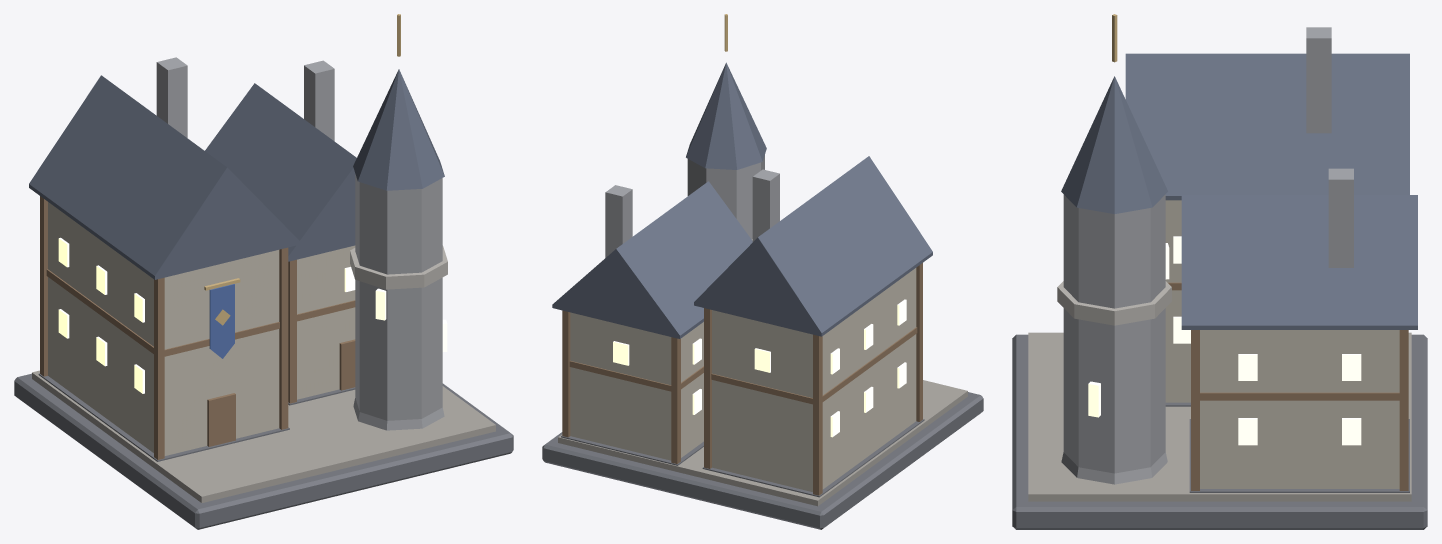
Rendered from habitat.glb.
3 renders of one model, left to right at view 1: azimuth 30°, elevation 25°; view 2: azimuth 150°, elevation 25°; view 3: azimuth 270°, elevation 25°, orthographic. The views are drawn at different scales.
Parts seen in each view (by area): view 1: habitat; view 2: habitat; view 3: habitat.
Part boxes in pixels (x1,y1,x2,y2): habitat: [14, 14, 513, 529]; habitat: [542, 14, 983, 529]; habitat: [1012, 14, 1427, 529].
Bounding box in the file's own units: 13 × 16.5 × 13.
